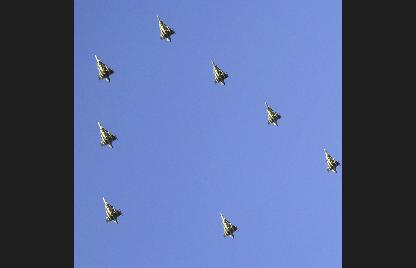JAS39: (95, 53, 115, 81), (97, 120, 117, 146), (102, 196, 122, 222), (157, 14, 176, 40), (211, 58, 229, 84), (264, 99, 282, 125), (220, 212, 238, 238), (325, 147, 341, 171)
